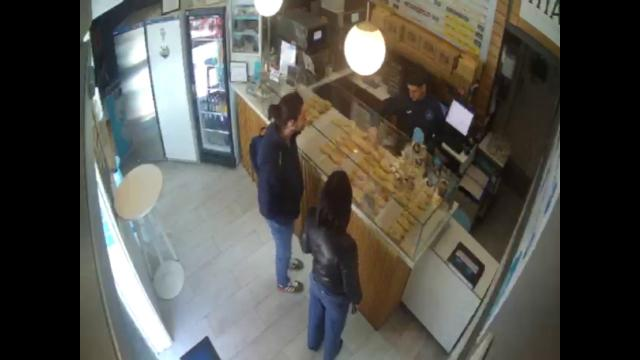cliente: (302, 170, 362, 360), (250, 92, 303, 292)
empleado: (380, 78, 445, 140)
